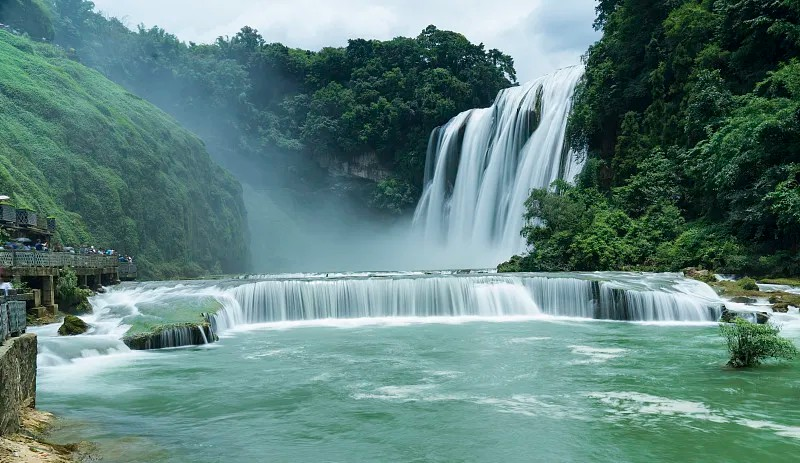Huangguoshu: (406, 65, 587, 271)
